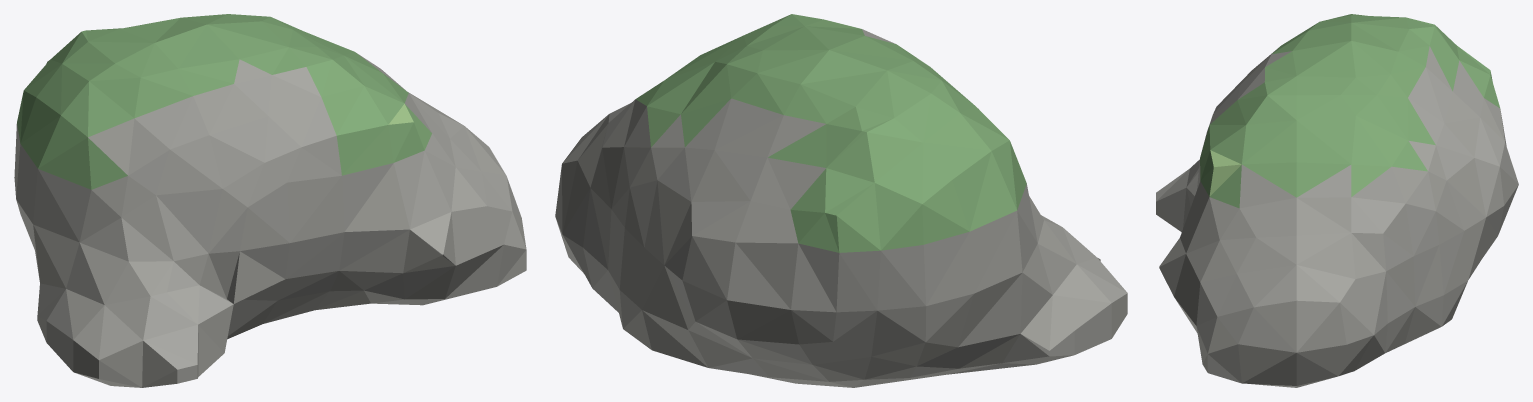
The model's file is prop_rock_mossy.glb.
The picture shows the model from 3 angles, left to right: view 1: azimuth 30°, elevation 25°; view 2: azimuth 150°, elevation 25°; view 3: azimuth 270°, elevation 25°; orthographic projection. The views are drawn at different scales.
Visible parts, largest first — view 1: idle_00; view 2: idle_00; view 3: idle_00.
Part boxes in pixels (x1=…): idle_00: x1=14, y1=14, x2=526, y2=387; idle_00: x1=555, y1=14, x2=1127, y2=387; idle_00: x1=1156, y1=14, x2=1518, y2=387.
Size of the model in its own units: 1.56 by 0.9247 by 1.17.
